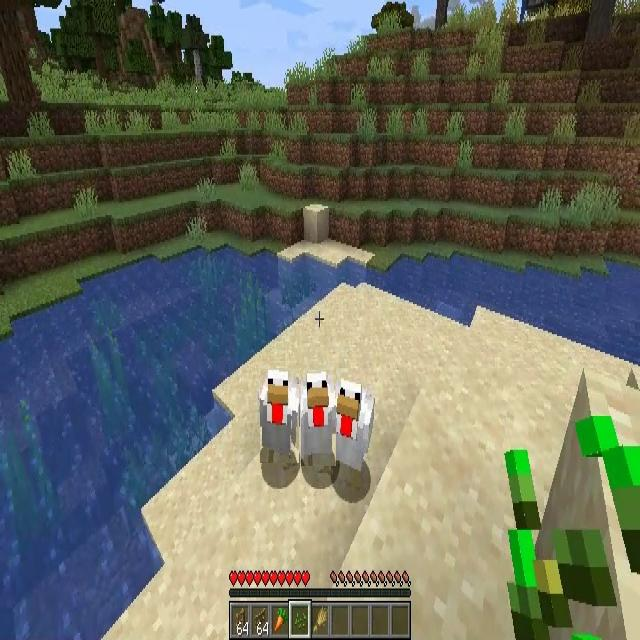duck: (260, 369, 299, 463), (336, 378, 374, 468), (301, 370, 336, 466)
